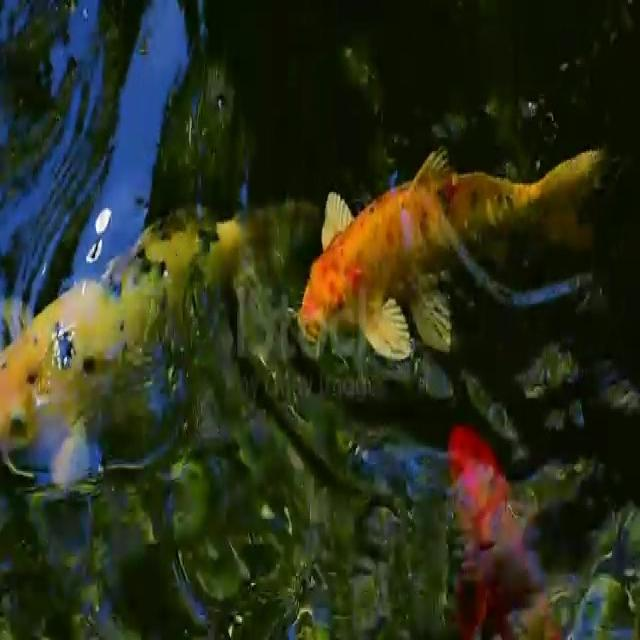fish: (0, 191, 333, 498), (289, 137, 626, 368), (425, 416, 586, 638)
